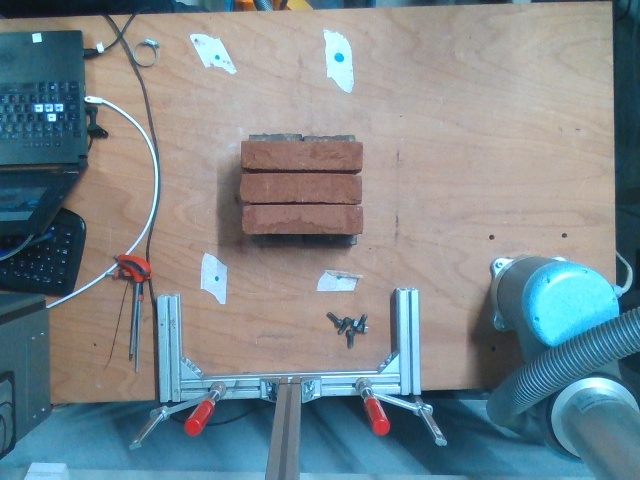brick-side: (243, 203, 361, 232), (241, 173, 359, 202), (243, 140, 361, 169)
